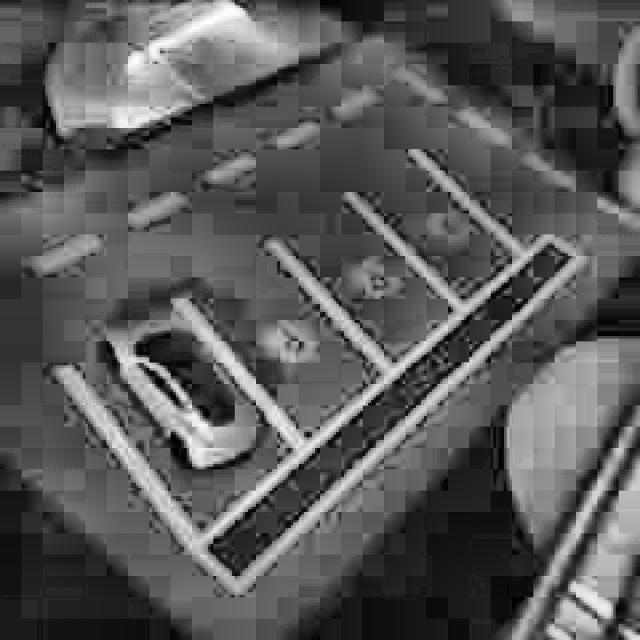car: (86, 295, 269, 492)
